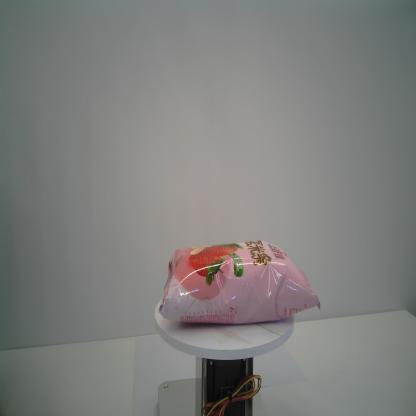Puffed Food: (159, 240, 321, 325)
